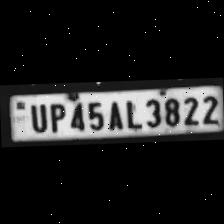2: (179, 94, 199, 128), (198, 92, 218, 125)
3: (140, 94, 162, 128)
4: (66, 98, 86, 132)
5: (84, 98, 104, 132)
8: (160, 94, 180, 128)
A: (103, 97, 123, 131)
L: (121, 96, 141, 129)
P: (44, 100, 66, 132)
U: (26, 100, 46, 132)
